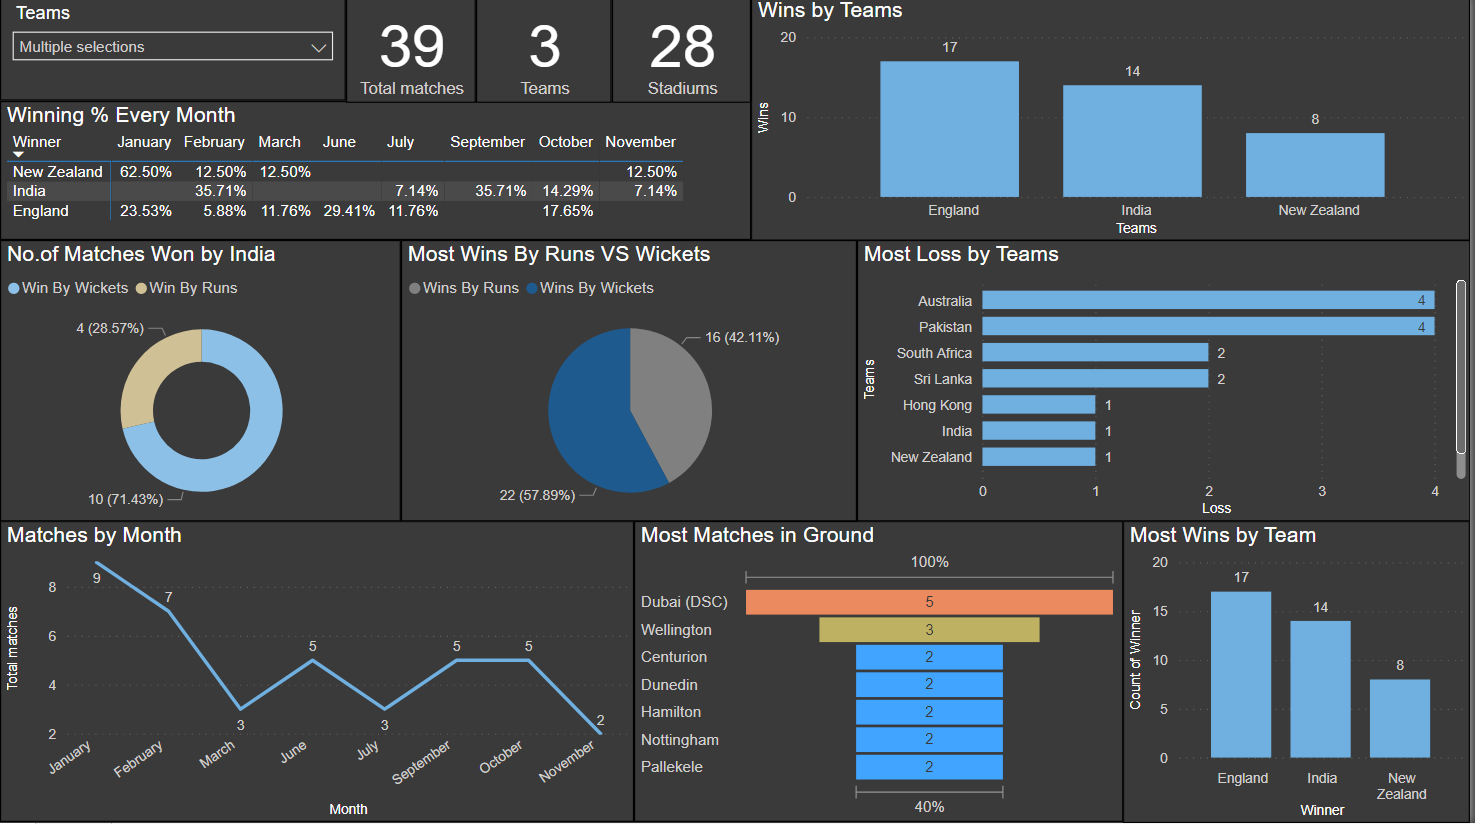

Layout of this report page (visuals, bound fields, positions):
{"tool":"powerbi","page":{"name":"Page 1","canvas":[1280,720],"ordinal":0},"visuals":[{"type":"lineChart","title":"Matches by Month","fields":{"Category":["Sheet1.Match Date.Variation.Date Hierarchy.Month"],"Y":["Sheet1.Total matches"]},"box":[0,457.3,552.1,262.5],"z":0},{"type":"columnChart","fields":{"Category":["Sheet1.Teams"],"Y":["CountNonNull(Sheet1.Team 1)"]},"box":[653.9,0,626.1,212.6],"z":1000},{"type":"columnChart","title":"Most Wins by Team","fields":{"Category":["Sheet1.Winner"],"Y":["CountNonNull(Sheet1.Winner)"]},"box":[977.7,457.5,302.3,262.8],"z":2000},{"type":"pieChart","title":"Most Wins By Runs VS Wickets","fields":{"Y":["CountNonNull(Sheet1.Win By Runs)","CountNonNull(Sheet1.Win By Wickets)"]},"box":[348.9,212.6,397.4,244.9],"z":3000},{"type":"funnel","title":"Most Matches in Ground","fields":{"Category":["Sheet1.Ground"],"Y":["CountNonNull(Sheet1.Match Date)"]},"box":[551.6,457.5,426.1,261.9],"z":4000},{"type":"donutChart","title":"No.of Matches Won  by India","fields":{"Y":["CountNonNull(Sheet1.Win By Wickets)","CountNonNull(Sheet1.Win By Runs)"]},"box":[0,212.6,348.9,244.9],"z":5000},{"type":"pivotTable","title":"Winning % Every Month","fields":{"Rows":["Sheet1.Winner"],"Columns":["Sheet1.Match Date.Variation.Date Hierarchy.Month"],"Values":["Min(Sheet1.Winner)"]},"box":[0,91.5,653.9,121.1],"z":6000},{"type":"card","fields":{"Values":["Sheet1.Total matches"]},"box":[301.4,0,113,93.3],"z":7000},{"type":"card","fields":{"Values":["Count(Sheet1.Teams)"]},"box":[414.4,0,118.4,93.3],"z":8000},{"type":"card","fields":{"Values":["Count(Sheet1.Ground)"]},"box":[532.8,0,121.1,93.3],"z":9000},{"type":"clusteredBarChart","title":"Most Loss by Teams","fields":{"Category":["Sheet1.Lost While Chasing"],"Y":["CountNonNull(Sheet1.Lost While Chasing)"]},"box":[746.3,212.6,533.7,244.9],"z":10000},{"type":"slicer","fields":{"Values":["Sheet1.Teams"]},"box":[0,0,301.4,91.5],"z":11000}]}

Visuals, with their boxes in screenshot pixels (x1, y1, x2, y2), scaled from the page's 1280x720 canvas onto the 1475x824 screenshot:
"Matches by Month" lineChart: Rect(0, 523, 636, 823)
columnChart - Sheet1.Teams x CountNonNull(Sheet1.Team 1): Rect(754, 0, 1474, 243)
"Most Wins by Team" columnChart: Rect(1127, 524, 1474, 823)
"Most Wins By Runs VS Wickets" pieChart: Rect(402, 243, 860, 524)
"Most Matches in Ground" funnel: Rect(636, 524, 1127, 823)
"No.of Matches Won  by India" donutChart: Rect(0, 243, 402, 524)
"Winning % Every Month" pivotTable: Rect(0, 105, 754, 243)
card - Sheet1.Total matches: Rect(347, 0, 478, 107)
card - Count(Sheet1.Teams): Rect(478, 0, 614, 107)
card - Count(Sheet1.Ground): Rect(614, 0, 754, 107)
"Most Loss by Teams" clusteredBarChart: Rect(860, 243, 1474, 524)
slicer - Sheet1.Teams: Rect(0, 0, 347, 105)
